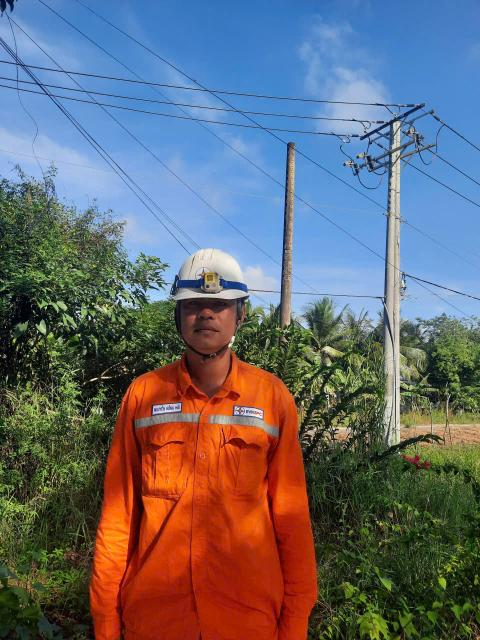helmet: (154, 246, 262, 313)
